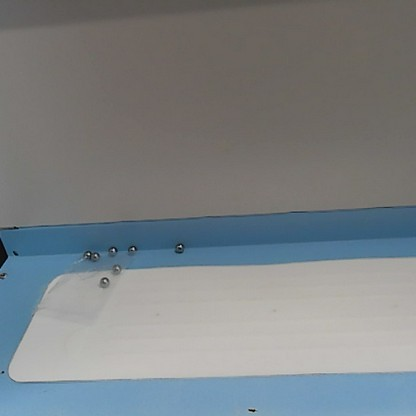ironball: (95, 272, 111, 289), (170, 240, 185, 254), (126, 242, 139, 255), (106, 243, 118, 256), (89, 249, 101, 262), (81, 247, 93, 260), (109, 263, 120, 276)
